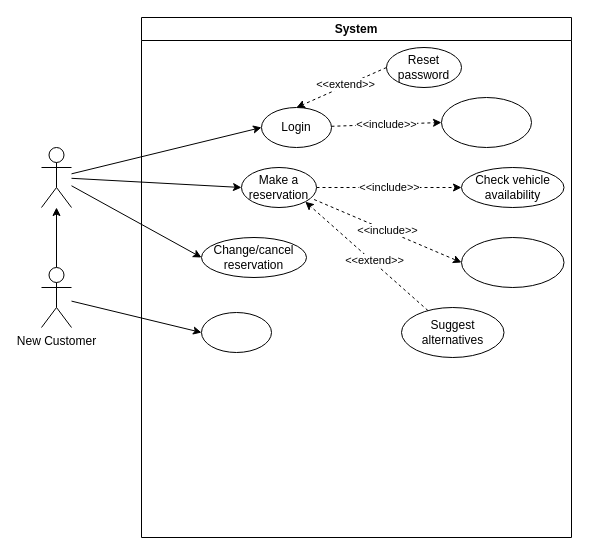
Some shapes in this 589 by 555 pixel diagram are drawn without their labels. Each missing label, with the centre of its shape:
"Check authentication" belongs at (x=486, y=122).
"Customer" belongs at (x=56, y=177).
"Registration" belongs at (x=236, y=332).
"Send confirmation e-mail" belongs at (x=512, y=262).
